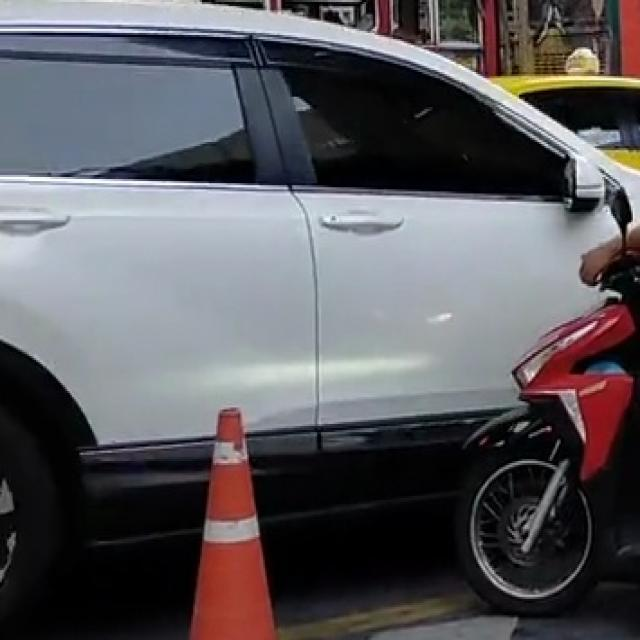door: (0, 21, 638, 630), (254, 33, 635, 440)
helmet: (564, 45, 599, 74)
tyre: (454, 453, 600, 615)
